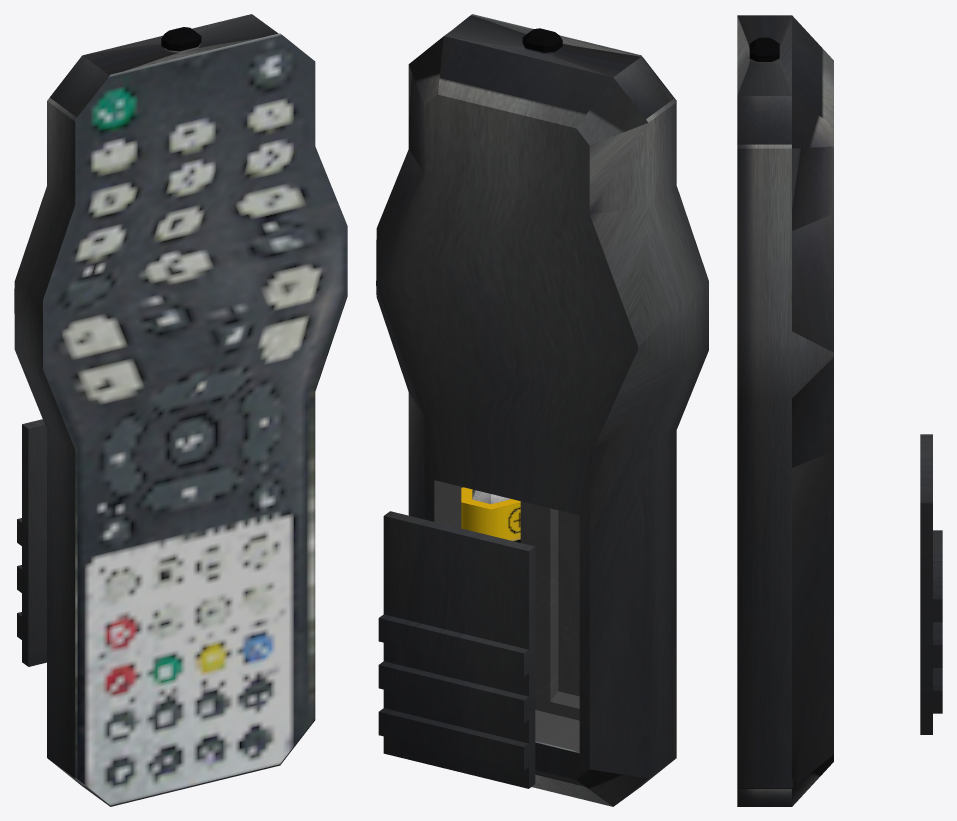
The model's file is remote control2.FBX.
3 views of the same model, side by side, from view 1: azimuth 30°, elevation 25°; view 2: azimuth 150°, elevation 25°; view 3: azimuth 270°, elevation 25° (orthographic). The views are drawn at different scales.
Parts seen in each view (by area): view 1: Object004, Box001, Object001, Object005; view 2: Box001, Object001, Object003, Cylinder001, Object005, Object004; view 3: Box001, Object001, Object005.
Boxes of the visible parts, <box> form: Object004: <box>43,33,347,805</box>; Box001: <box>14,14,347,806</box>; Object001: <box>17,419,46,666</box>; Object005: <box>161,27,201,51</box>; Box001: <box>376,15,708,806</box>; Object001: <box>378,511,535,788</box>; Object003: <box>434,480,579,751</box>; Cylinder001: <box>461,487,520,542</box>; Object005: <box>522,28,562,52</box>; Object004: <box>454,14,708,753</box>; Box001: <box>737,15,833,806</box>; Object001: <box>920,434,942,734</box>; Object005: <box>749,37,779,61</box>.
Size of the model in its own units: 36.15 by 84.34 by 21.73.
7 materials, 7 textured.
